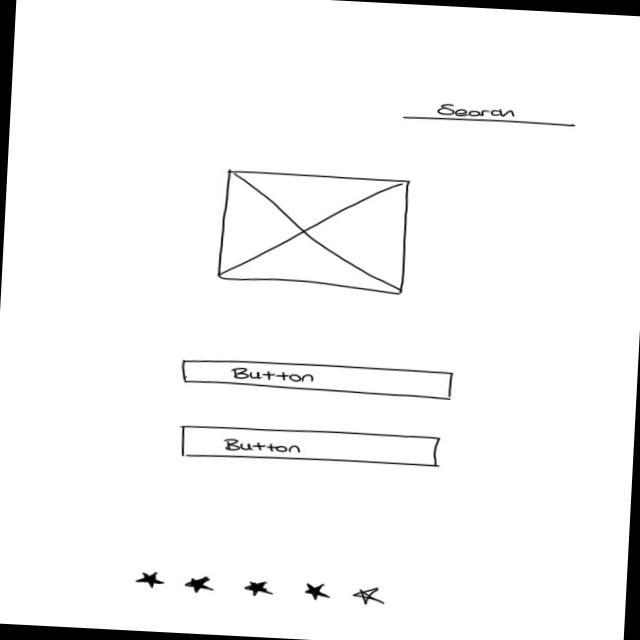button: (179, 422, 444, 474), (181, 357, 457, 403)
image: (216, 168, 413, 298)
input: (401, 99, 579, 131)
